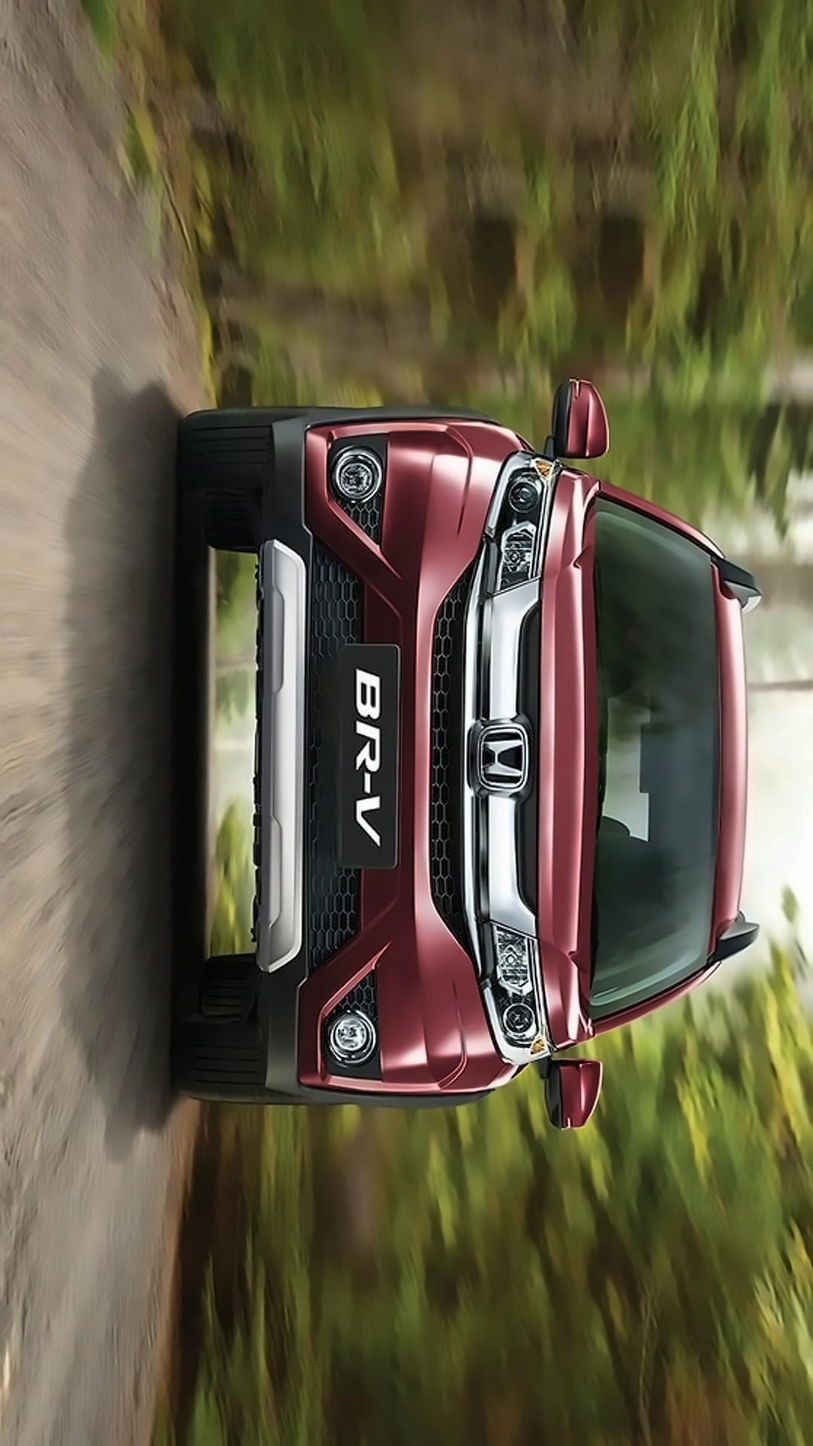Car hood: (535, 465, 591, 1059)
Front bumper: (239, 415, 511, 1113)
Headlight - -L-: (470, 912, 556, 1075)
Headlight - -R-: (470, 450, 565, 622)
Side mirror - -L-: (540, 1055, 605, 1144)
Side mirror - -R-: (545, 369, 616, 472)
